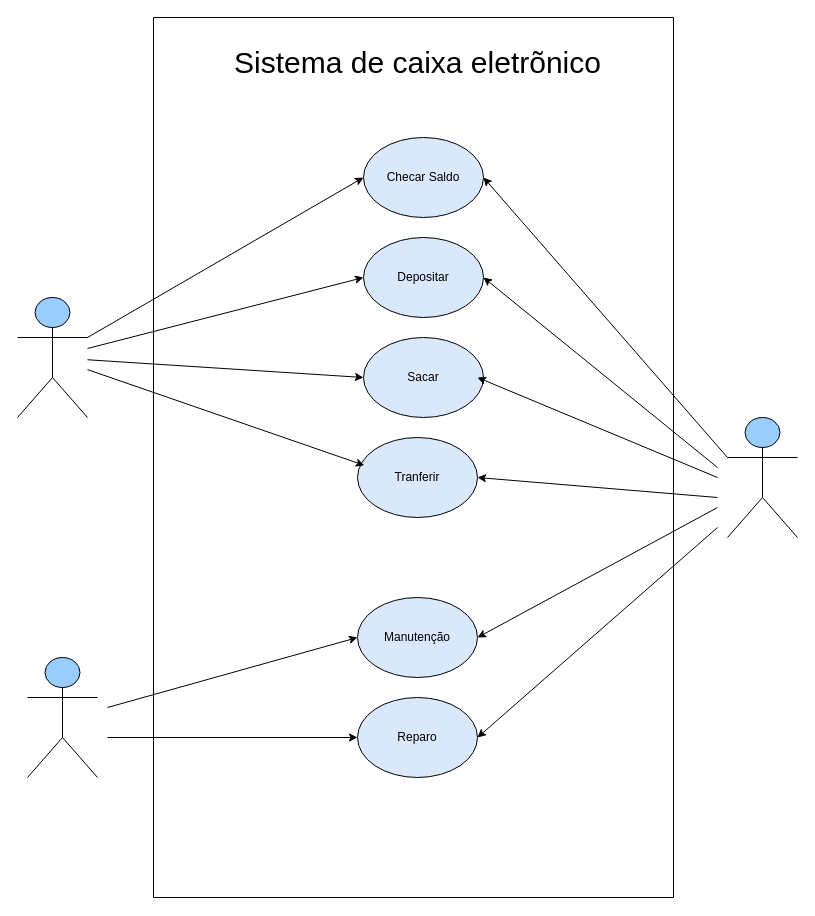
The diagram is 815 pixels wide and 916 high, and some of its shapes have lost their labels. Here are the shapes that lost their labels. From the top down, the box of each, then its label:
(16, 296, 88, 418): Cliente
(726, 416, 798, 538): Banco
(26, 656, 98, 778): Técnico
